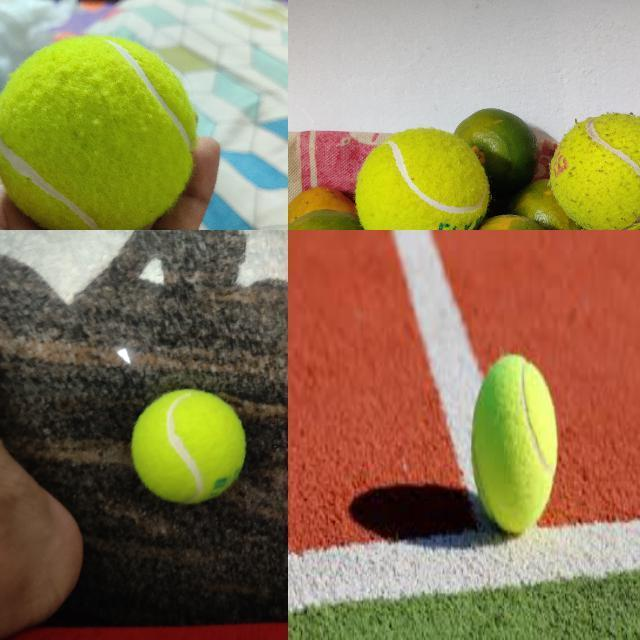tennis-ball: (0, 34, 199, 229), (470, 352, 559, 535), (131, 388, 248, 504), (354, 127, 462, 229), (548, 111, 639, 229)
